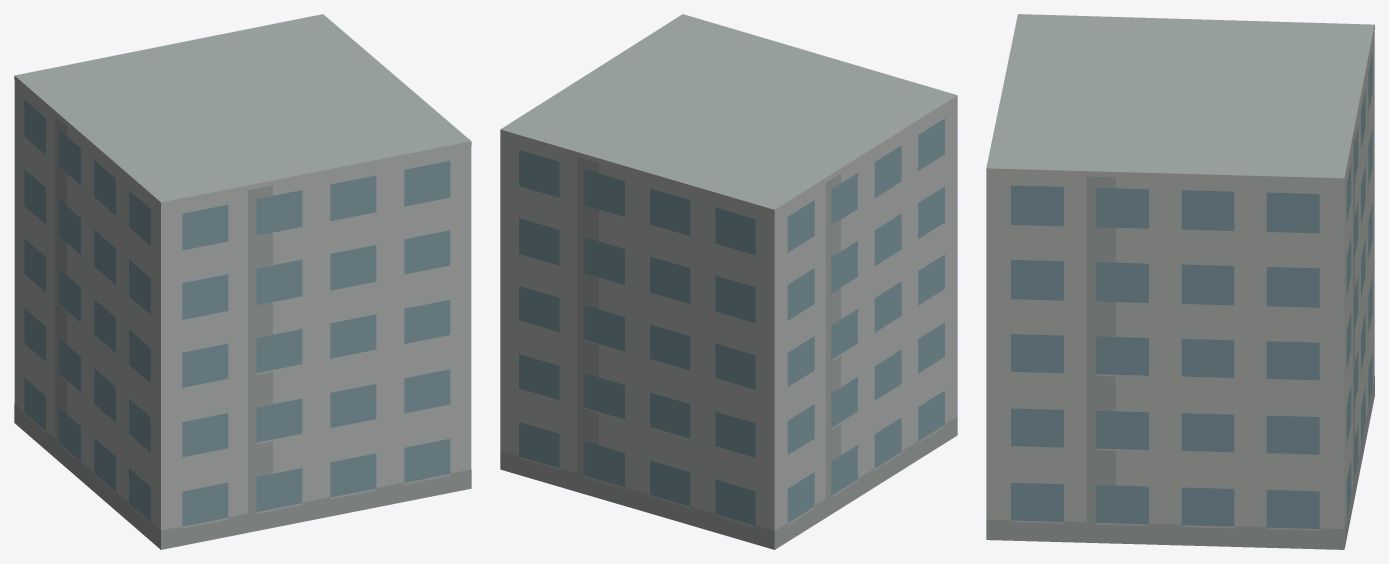
File: survey-upis-32835014.glb
The picture shows the model from 3 angles, left to right: view 1: azimuth 30°, elevation 25°; view 2: azimuth 150°, elevation 25°; view 3: azimuth 270°, elevation 25°; orthographic projection. The views are drawn at different scales.
Parts seen in each view (by area): view 1: survey-upis-32835014.tmp; view 2: survey-upis-32835014.tmp; view 3: survey-upis-32835014.tmp.
Part boxes in pixels (x1=…): survey-upis-32835014.tmp: x1=14, y1=14, x2=471, y2=549; survey-upis-32835014.tmp: x1=500, y1=14, x2=957, y2=549; survey-upis-32835014.tmp: x1=986, y1=14, x2=1374, y2=549.
Size of the model in its own units: 15.85 by 16.71 by 15.84.
